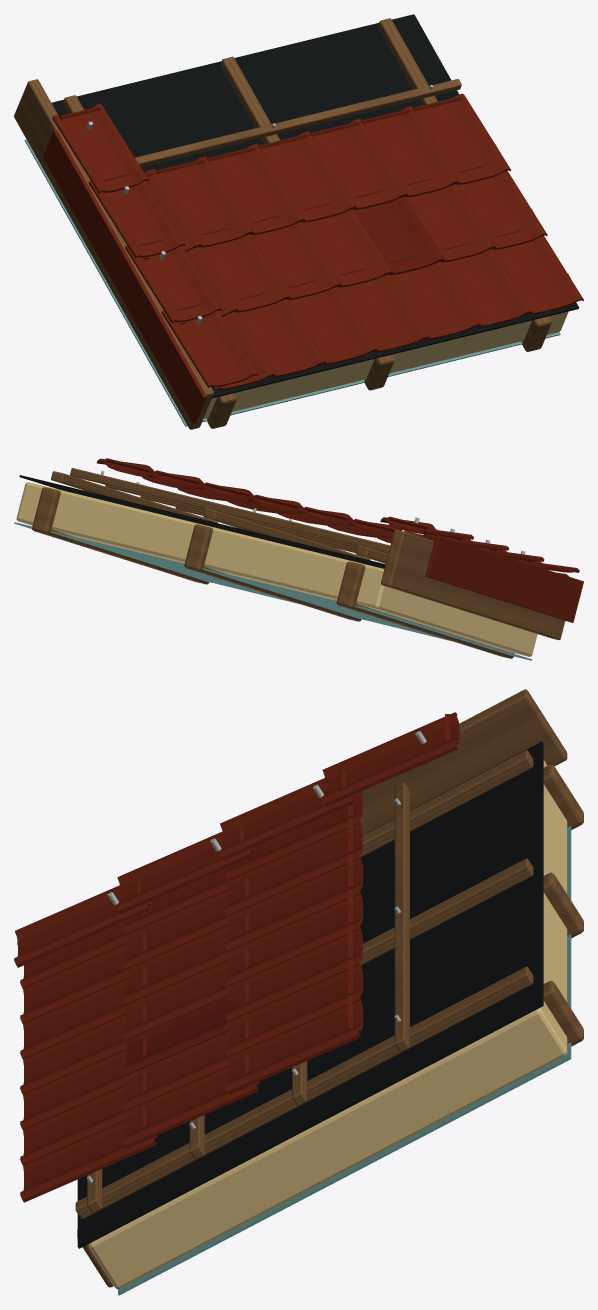
File: modell.glb
3 renders of one model, top to bottom at view 1: azimuth 30°, elevation 25°; view 2: azimuth 150°, elevation 25°; view 3: azimuth 270°, elevation 25°, orthographic. The views are drawn at different scales.
Parts seen in each view (by area): view 1: s04-deckziegel_deckung, s04-zusatzebene_zusatzebene, s04-randziegel_deckung, s04-abschluss_deckung, s04-lattung_lattung, s04-daemmung_daemmung, s04-abschluss_tragwerk, s04-deckziegel_deckung.001, s04-sparren_tragwerk, s04-luftdichtheit_luftdichtheit; view 2: s04-daemmung_daemmung, s04-abschluss_deckung, s04-lattung_lattung, s04-abschluss_tragwerk, s04-sparren_tragwerk, s04-deckziegel_deckung, s04-luftdichtheit_luftdichtheit, s04-zusatzebene_zusatzebene, s04-randziegel_deckung; view 3: s04-deckziegel_deckung, s04-zusatzebene_zusatzebene, s04-daemmung_daemmung, s04-lattung_lattung, s04-randziegel_deckung, s04-abschluss_tragwerk, s04-sparren_tragwerk, s04-luftdichtheit_luftdichtheit, s04-deckziegel_deckung.001.
Part boxes in pixels (bbox=[...]): s04-deckziegel_deckung: bbox=[141, 93, 583, 390]; s04-zusatzebene_zusatzebene: bbox=[51, 14, 579, 398]; s04-randziegel_deckung: bbox=[52, 103, 258, 387]; s04-abschluss_deckung: bbox=[43, 130, 206, 423]; s04-lattung_lattung: bbox=[63, 18, 570, 278]; s04-daemmung_daemmung: bbox=[203, 311, 568, 418]; s04-abschluss_tragwerk: bbox=[14, 79, 213, 429]; s04-deckziegel_deckung.001: bbox=[354, 196, 444, 275]; s04-sparren_tragwerk: bbox=[207, 316, 551, 428]; s04-luftdichtheit_luftdichtheit: bbox=[24, 139, 560, 426]; s04-daemmung_daemmung: bbox=[16, 482, 537, 656]; s04-abschluss_deckung: bbox=[425, 535, 583, 622]; s04-lattung_lattung: bbox=[51, 468, 390, 563]; s04-abschluss_tragwerk: bbox=[381, 529, 565, 640]; s04-sparren_tragwerk: bbox=[32, 487, 514, 658]; s04-deckziegel_deckung: bbox=[96, 458, 568, 576]; s04-luftdichtheit_luftdichtheit: bbox=[14, 522, 532, 660]; s04-zusatzebene_zusatzebene: bbox=[19, 475, 385, 568]; s04-randziegel_deckung: bbox=[380, 516, 579, 572]; s04-deckziegel_deckung: bbox=[20, 791, 362, 1202]; s04-zusatzebene_zusatzebene: bbox=[77, 741, 543, 1248]; s04-daemmung_daemmung: bbox=[88, 760, 567, 1289]; s04-lattung_lattung: bbox=[75, 750, 533, 1219]; s04-randziegel_deckung: bbox=[14, 712, 459, 967]; s04-abschluss_tragwerk: bbox=[360, 689, 567, 834]; s04-sparren_tragwerk: bbox=[77, 764, 583, 1287]; s04-luftdichtheit_luftdichtheit: bbox=[118, 826, 571, 1295]; s04-deckziegel_deckung.001: bbox=[122, 996, 228, 1076].
Size of the model in its own units: 1.85 by 1.11 by 1.64.
Materials: 7 (3 with a texture image).
